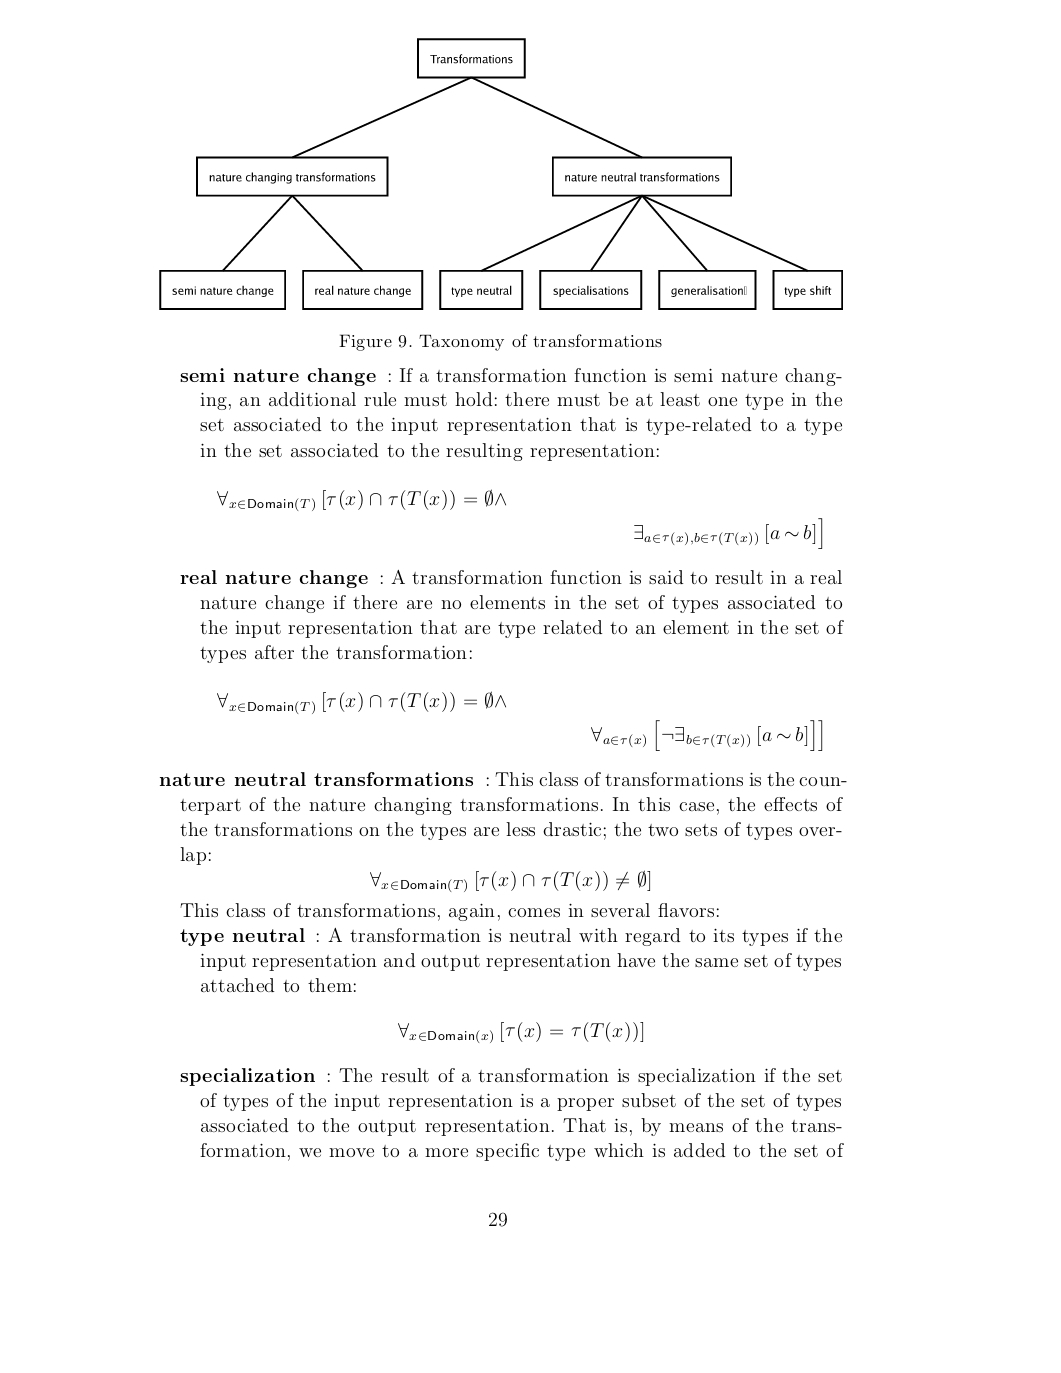figure: (159, 37, 841, 310)
formula: (591, 719, 822, 751), (217, 690, 505, 715), (217, 488, 505, 512), (370, 869, 650, 893), (634, 517, 822, 549), (398, 1021, 643, 1044)
